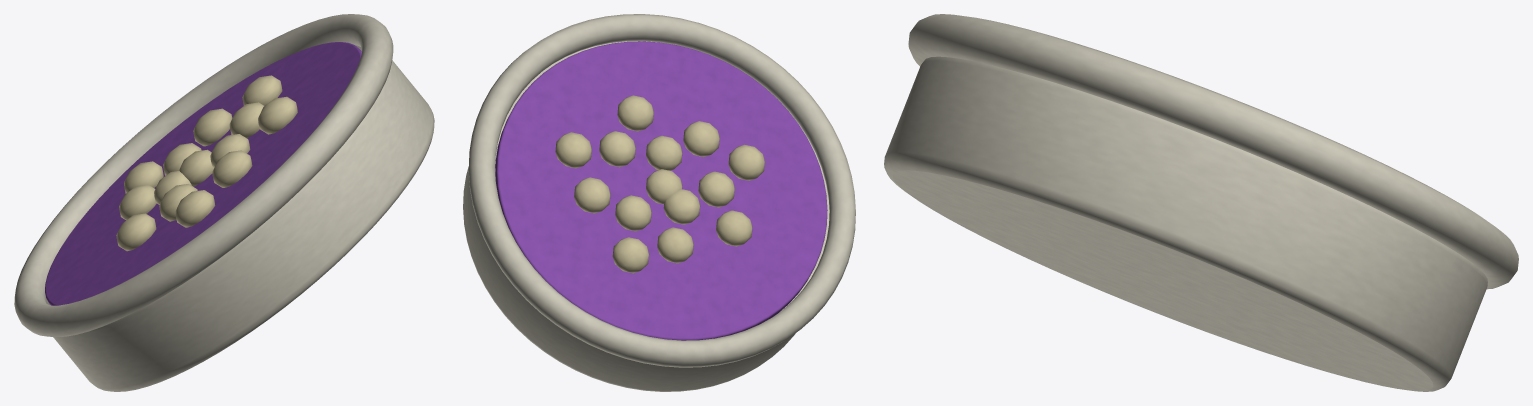
The picture shows the model from 3 angles, left to right: view 1: azimuth 30°, elevation 25°; view 2: azimuth 150°, elevation 25°; view 3: azimuth 270°, elevation 25°; orthographic projection. The views are drawn at different scales.
Visible parts, largest first — view 1: Thick-walled sample vessel; view 2: Thick-walled sample vessel; view 3: Thick-walled sample vessel.
Boxes of the visible parts, x1,y1,x2,y2 form: Thick-walled sample vessel: [14, 14, 434, 391]; Thick-walled sample vessel: [463, 14, 855, 391]; Thick-walled sample vessel: [884, 14, 1518, 391].
Size of the model in its own units: 0.9707 by 0.7871 by 1.
Materials: 1 (1 with a texture image).
